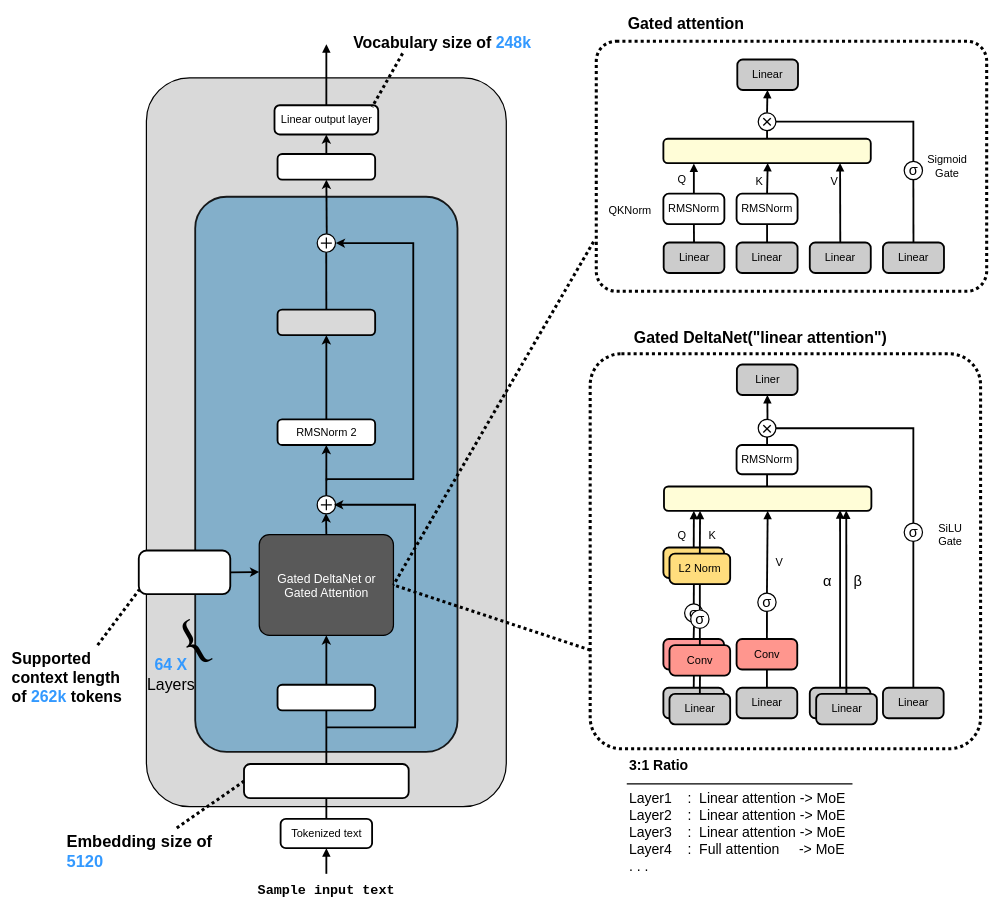
Image size: 999x914. Some labels were removed from this diagram. Here are the shapes that lost their labels. From the top down, the centre of each, then its label:
the point at 326,166: Final RMSNorm
the point at 766,151: Scaled dot-product attention
the point at 326,322: FFN
the point at 767,498: Gated Delta Rule
the point at 184,572: Partial RoPE (only in attention layers)
the point at 326,697: RMSNorm 1
the point at 326,781: Token embedding layer
